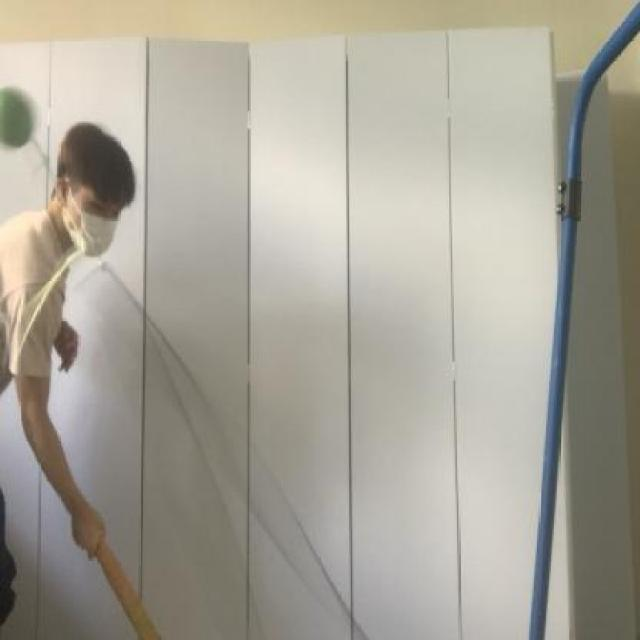baseball: (0, 82, 35, 155)
